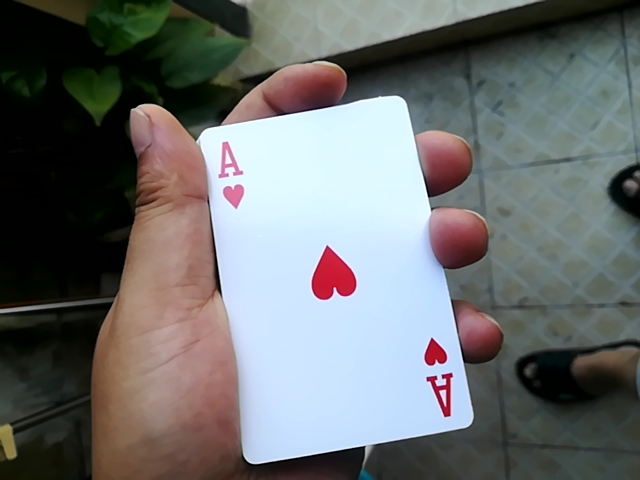hx a: (193, 93, 453, 466)
